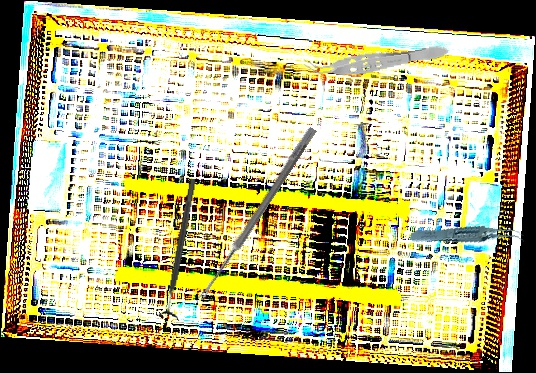Fixation Ring: (157, 177, 205, 321)
Surgical Spoon: (197, 125, 317, 303)
Tissue Forceps: (409, 207, 527, 267), (301, 38, 451, 83)
